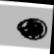correct: (12, 14, 50, 44)
